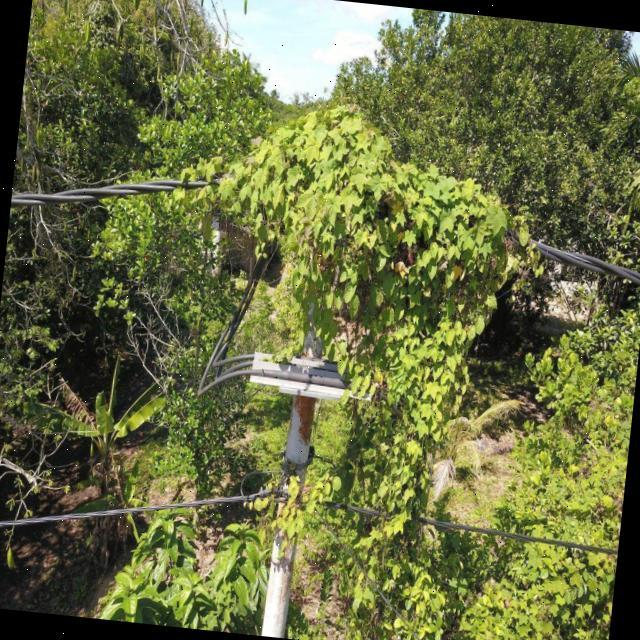critical vegetation: (171, 84, 518, 353), (336, 350, 462, 634)
